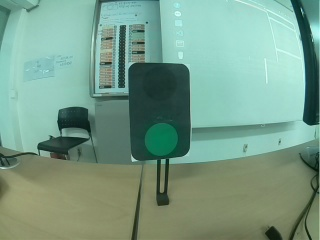green_light: (129, 65, 192, 159)
